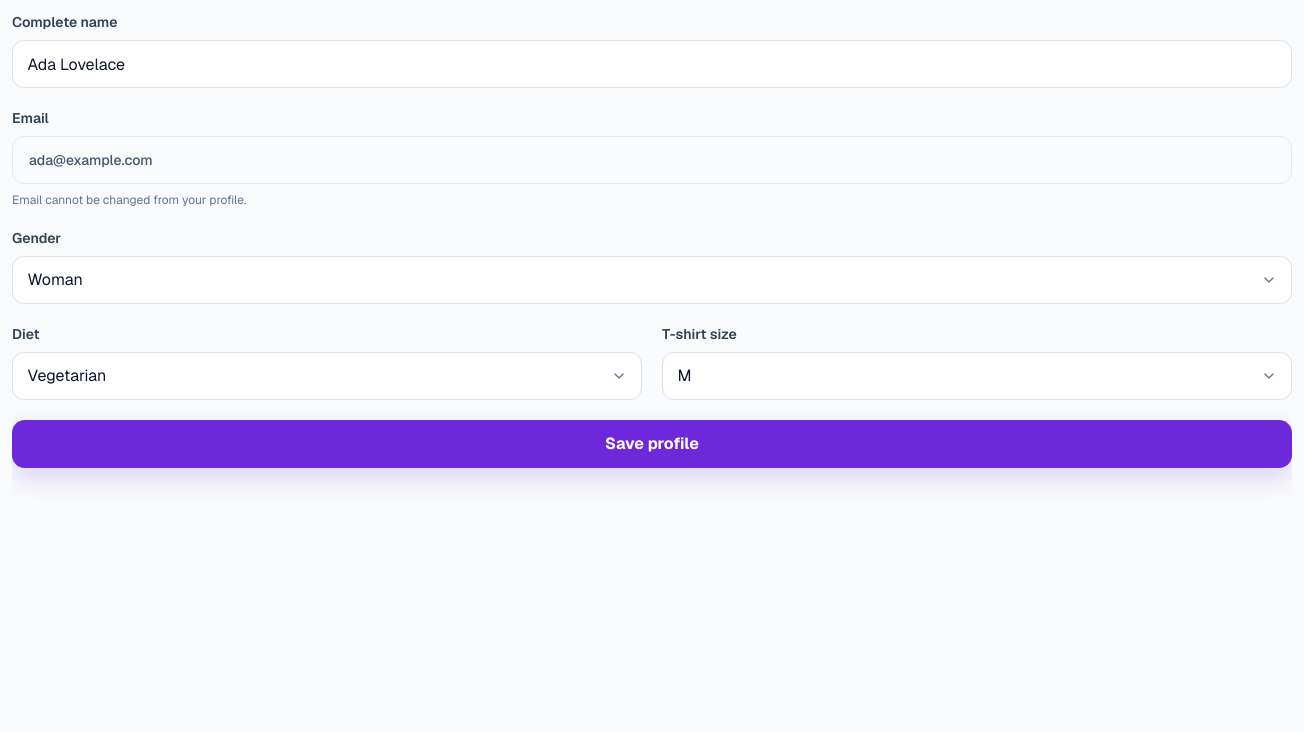
Test: ProfileForm › shows an error message returned from the action
The width and height of the screenshot is (1304, 732).
Step 1. Click the button "Save profile" → x=652, y=444, box [12,420,1292,468]
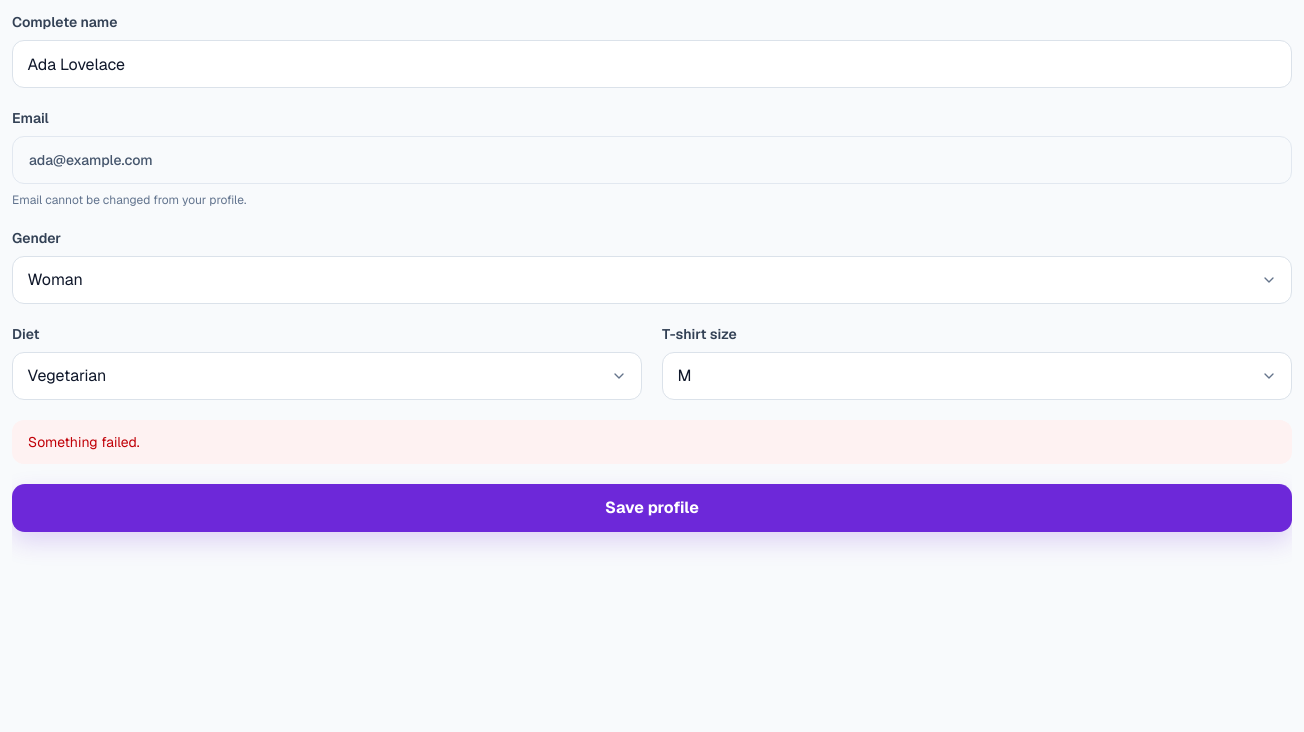
expect the message reads "Something failed.": met, box [28,433,140,451]
